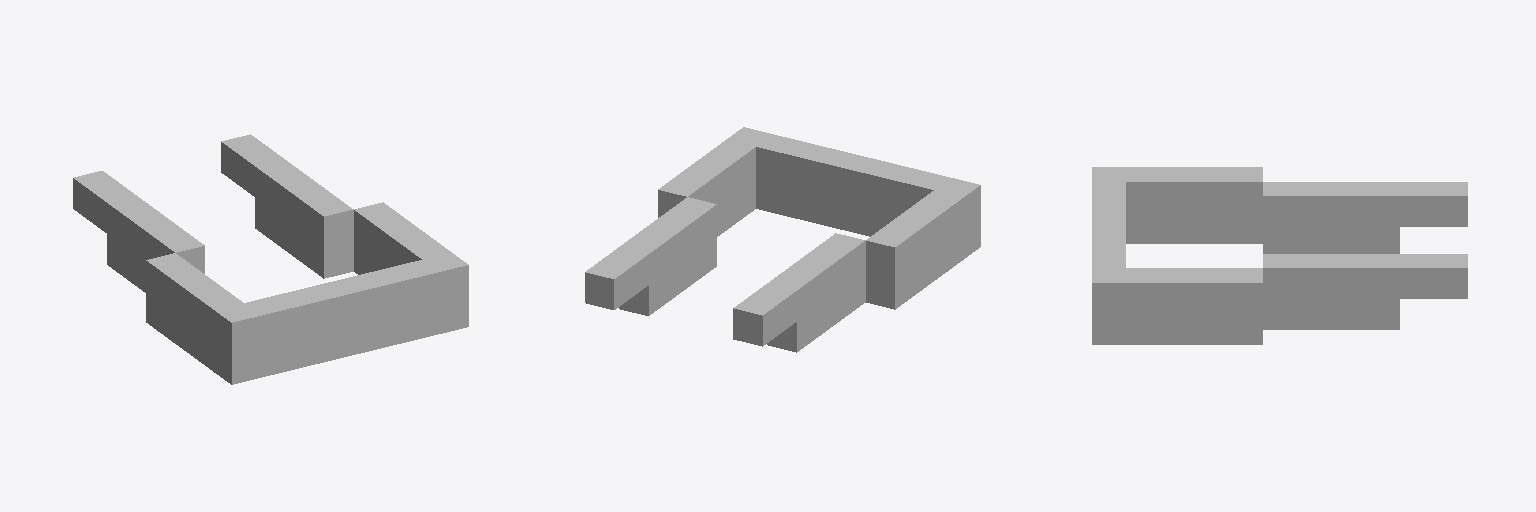
Rendered from Weapons-16-Garden Handle.obj.
The picture shows the model from 3 angles: view 1: azimuth 30°, elevation 25°; view 2: azimuth 150°, elevation 25°; view 3: azimuth 270°, elevation 25°; orthographic projection.
Parts seen in each view (by area): view 1: Garden Handle; view 2: Garden Handle; view 3: Garden Handle.
Part boxes in pixels (bbox=[...]): Garden Handle: bbox=[73, 134, 468, 384]; Garden Handle: bbox=[585, 127, 980, 352]; Garden Handle: bbox=[1092, 167, 1467, 344].
Bounding box in the file's own units: 0.8 × 0.2 × 1.1.